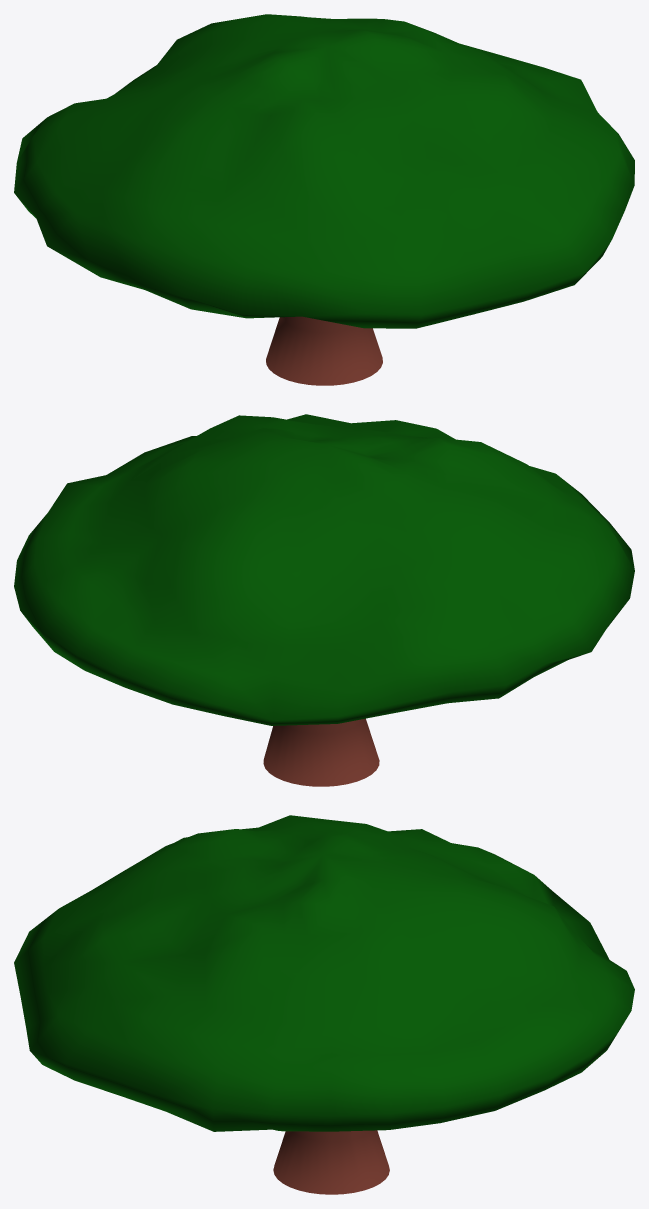
Rendered from enemy.obj.
3 views of the same model, one above another, from view 1: azimuth 30°, elevation 25°; view 2: azimuth 150°, elevation 25°; view 3: azimuth 270°, elevation 25° (orthographic).
Visible parts, largest first — view 1: 円柱; view 2: 円柱; view 3: 円柱.
Part boxes in pixels (x1,y1,x2,y2): 円柱: (14, 14, 634, 385); 円柱: (14, 414, 634, 786); 円柱: (14, 815, 634, 1194).
Bounding box in the file's own units: 51.03 × 28.47 × 50.8.
1 material, 1 textured.
